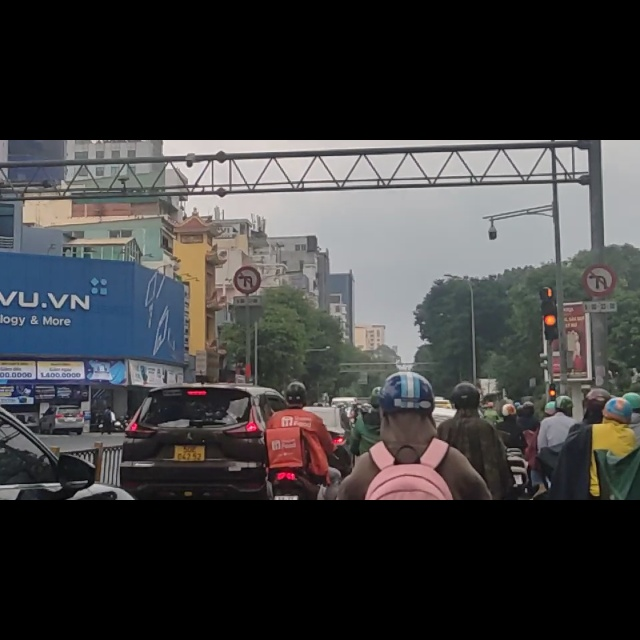bien_cam: (585, 225, 612, 273), (235, 226, 261, 273)
